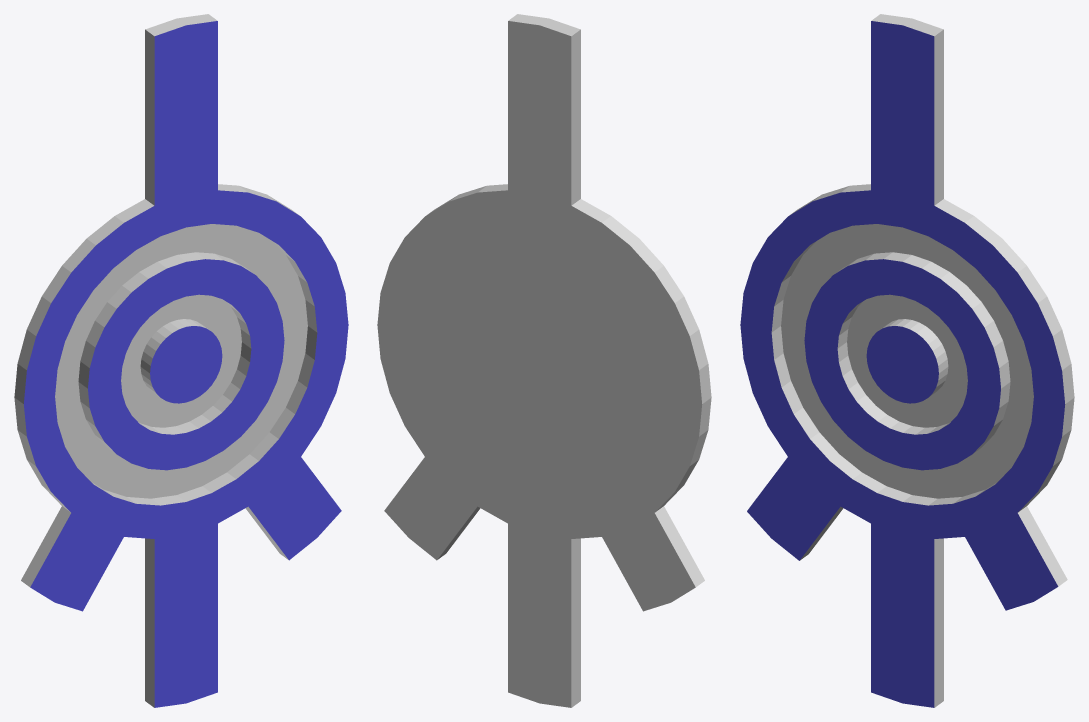
File: xana.glb
3 views of the same model, side by side, from view 1: azimuth 30°, elevation 25°; view 2: azimuth 150°, elevation 25°; view 3: azimuth 330°, elevation 25° (orthographic).
Visible parts, largest first — view 1: Círculo; view 2: Círculo; view 3: Círculo.
Boxes of the visible parts, box(x1,y1,x2,y2) form: Círculo: box(14, 14, 348, 707); Círculo: box(377, 14, 711, 707); Círculo: box(740, 14, 1074, 707).
Size of the model in its own units: 2 by 3.99 by 0.1002.
